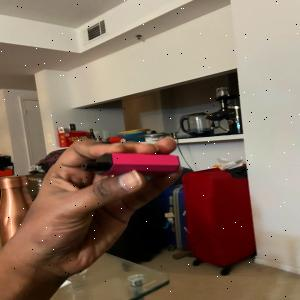Blume-E-Ciggirate: (81, 151, 183, 175)
